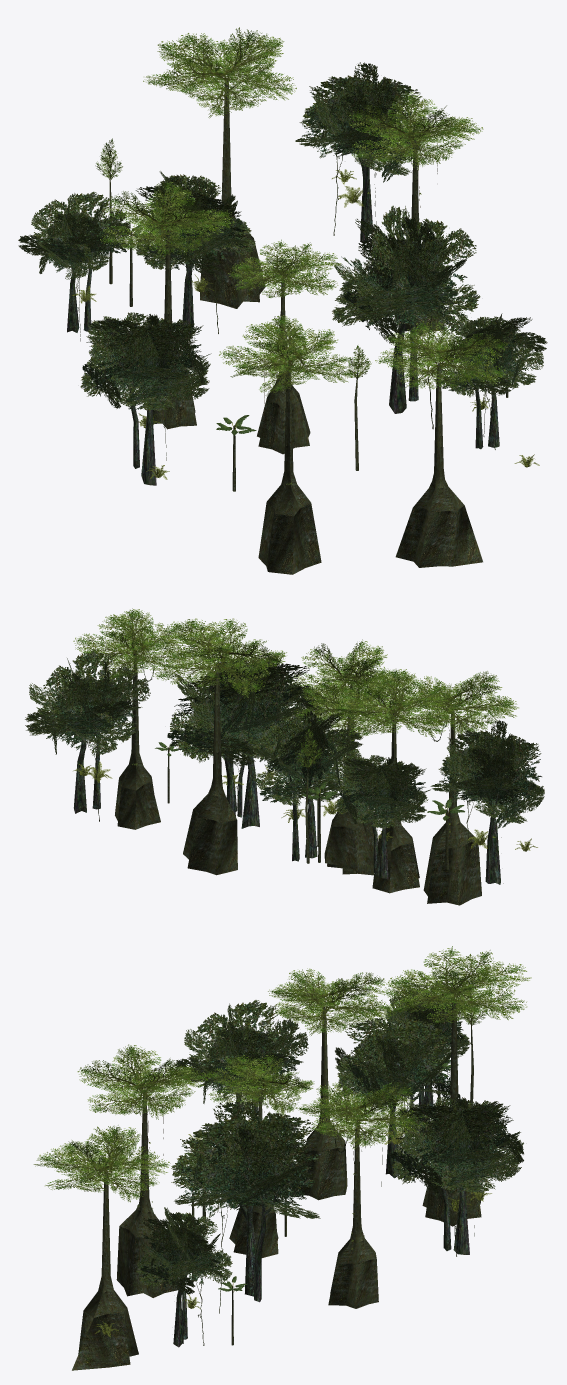
The picture shows the model from 3 angles, top to bottom: view 1: azimuth 30°, elevation 25°; view 2: azimuth 150°, elevation 25°; view 3: azimuth 270°, elevation 25°; orthographic projection. The views are drawn at different scales.
Parts seen in each view (by area): view 1: _TG01B; view 2: _TG01B; view 3: _TG01B.
Boxes of the visible parts, x1,y1,x2,y2 form: _TG01B: [18, 27, 547, 574]; _TG01B: [25, 608, 544, 905]; _TG01B: [33, 946, 531, 1370].
Size of the model in its own units: 55.86 by 46.57 by 58.24.
Materials: 10 (10 with a texture image).
